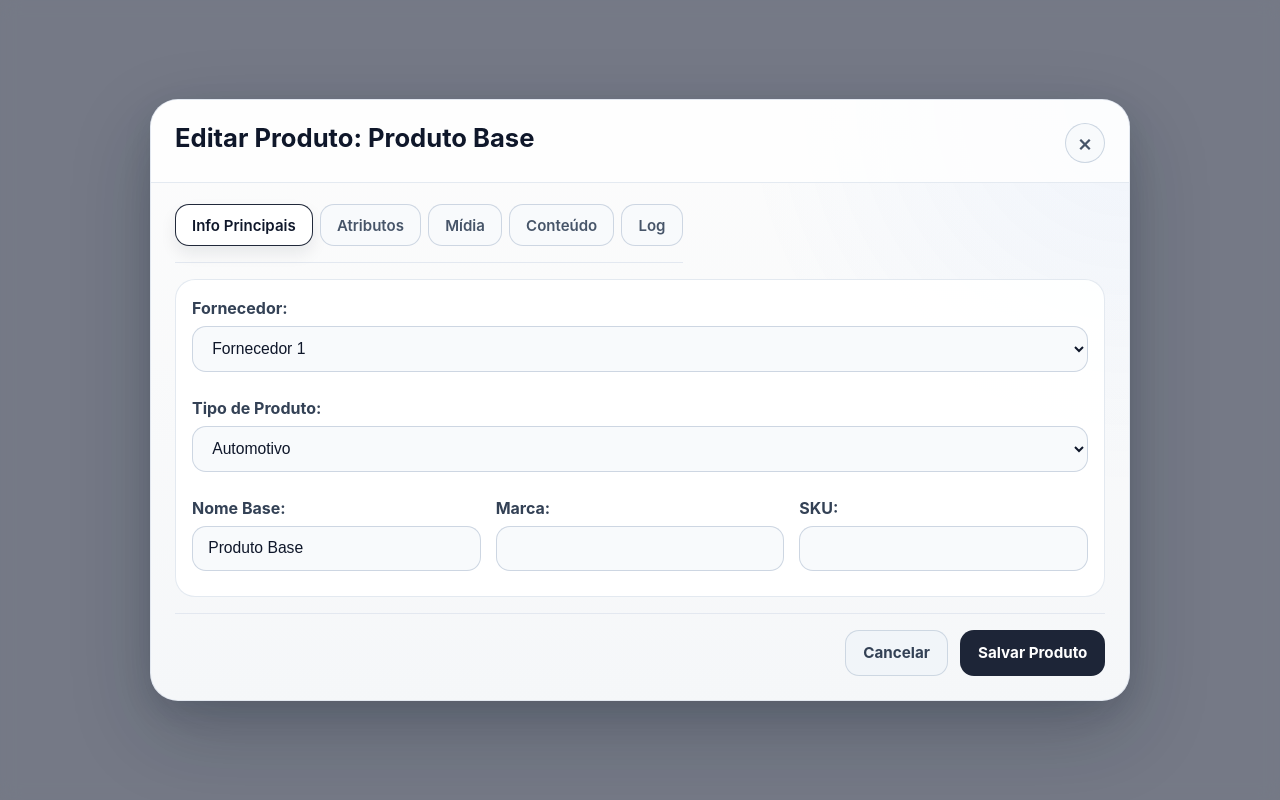
Test case: ProductEditModal › maps alias dynamic attributes to template keys when product payload lacks templates
Check: the field labelled "Nome Base:" is shown, box top-left (192, 526), bottom-right (481, 571)
Click the button "Atributos" at (370, 225), box top-left (320, 204), bottom-right (421, 246)
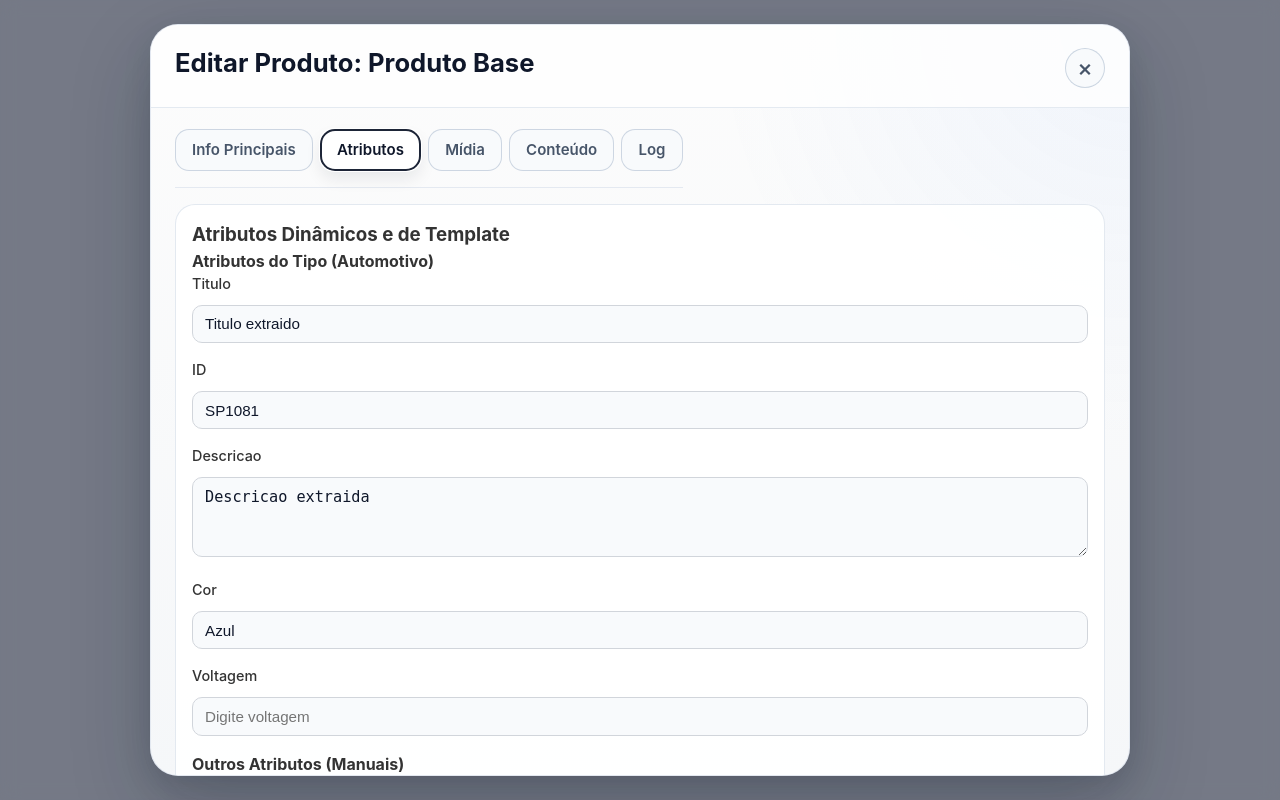
Check: the field labelled "Titulo" holds "Titulo extraido", box top-left (192, 305), bottom-right (1088, 343)
Check: the field labelled "ID" holds "SP1081", box top-left (192, 391), bottom-right (1088, 429)
Check: the text box labelled "Descricao" holds "Descricao extraida", box top-left (192, 477), bottom-right (1088, 557)
